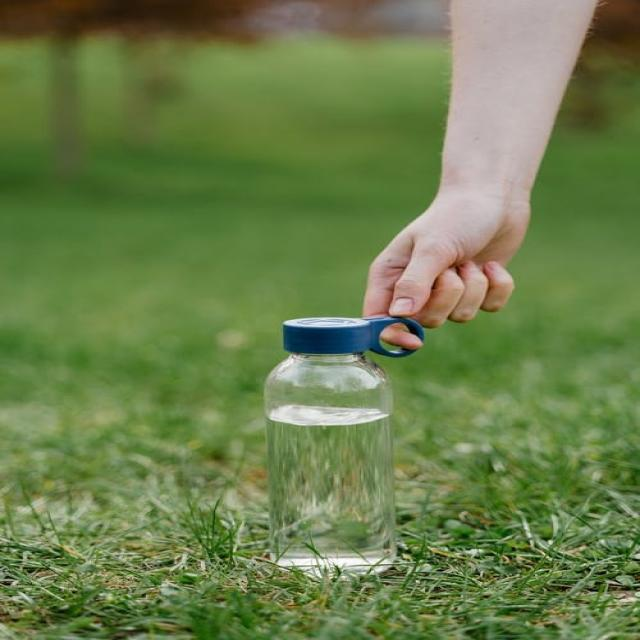plastic_bottle: (261, 315, 425, 578)
